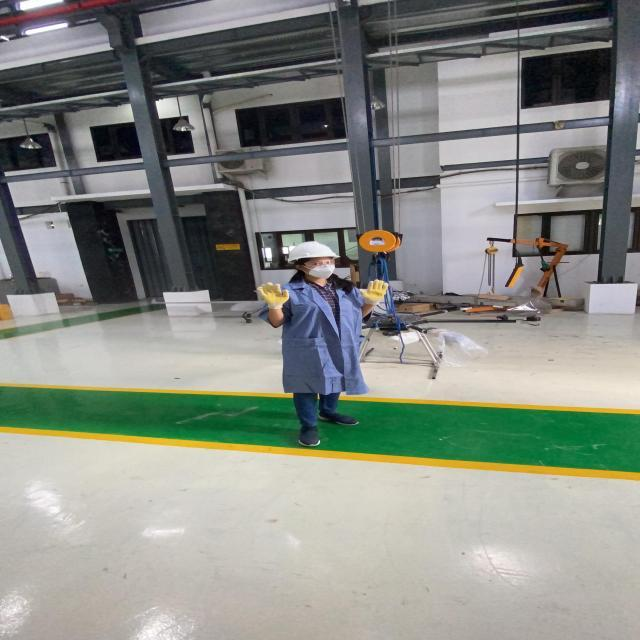glasses: (301, 258, 339, 268)
